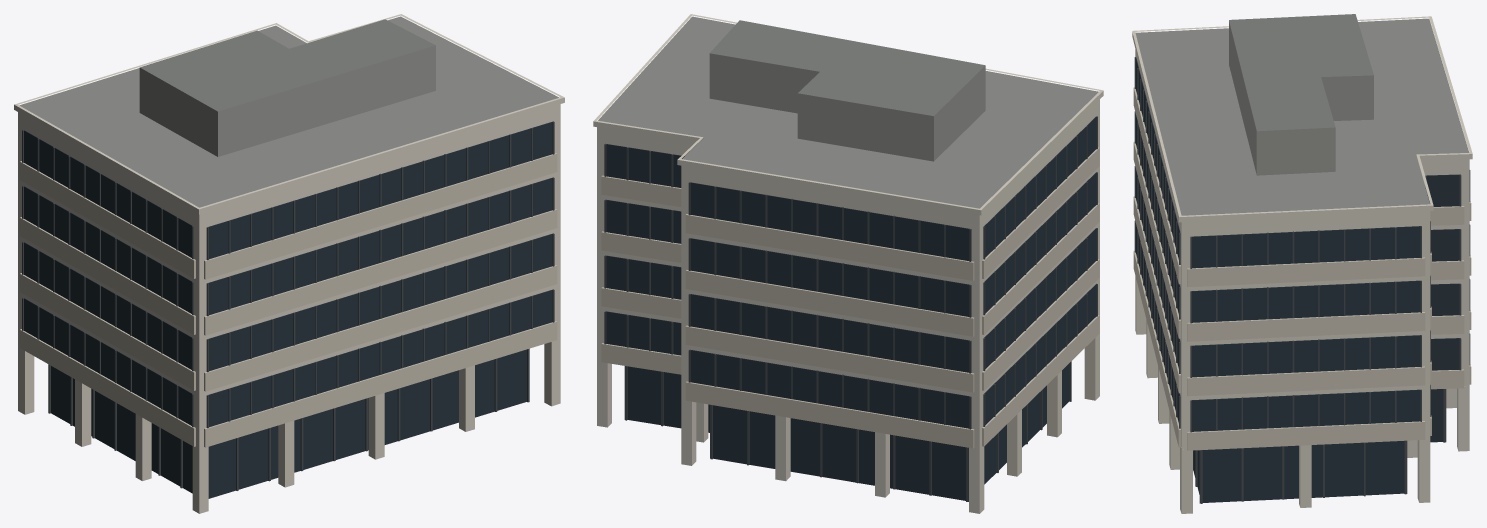
The model's file is imperial_south_building.glb.
The picture shows the model from 3 angles, left to right: view 1: azimuth 30°, elevation 25°; view 2: azimuth 150°, elevation 25°; view 3: azimuth 270°, elevation 25°; orthographic projection. The views are drawn at different scales.
Bounding box in the file's own units: 25.18 × 20.34 × 18.12.
